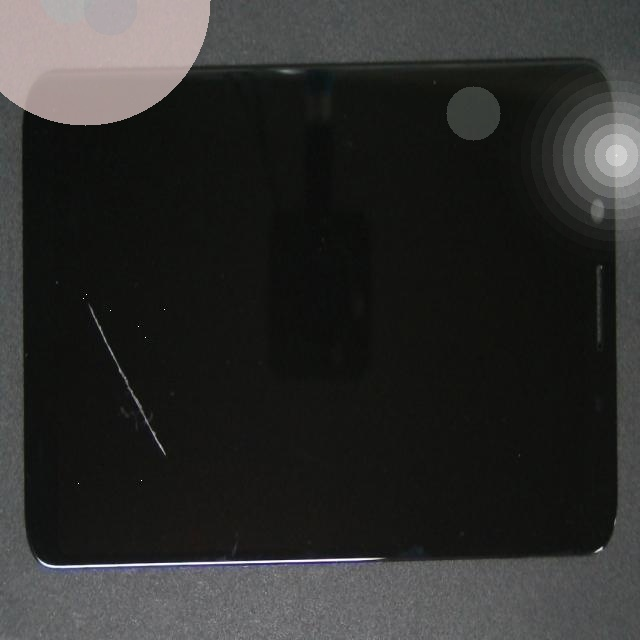scratch: (47, 120, 124, 436)
